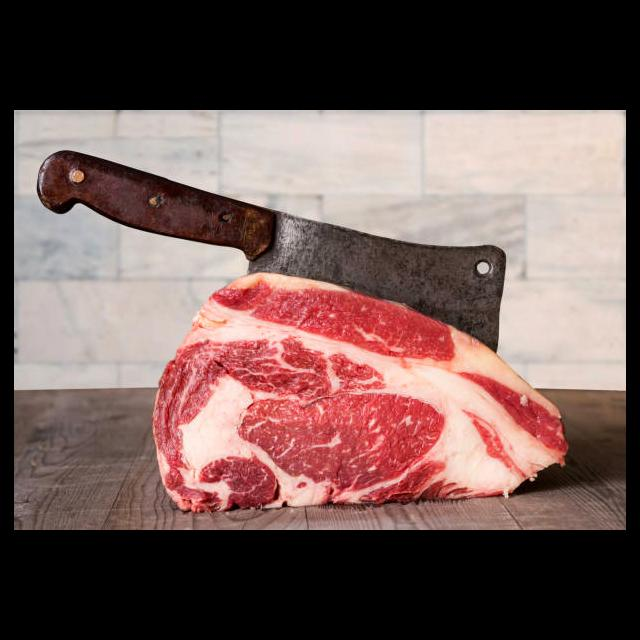beef: (154, 271, 568, 512)
